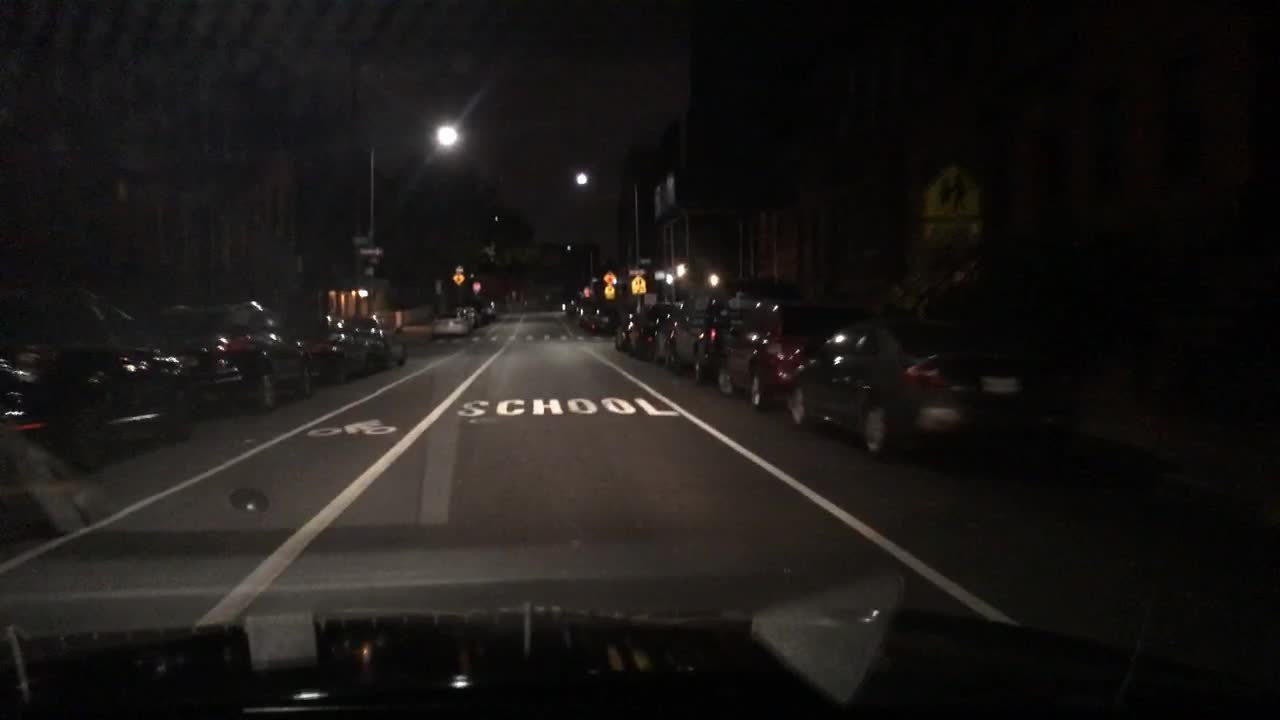car: (778, 308, 1091, 471), (0, 264, 200, 476), (710, 295, 884, 416), (156, 297, 319, 418), (662, 287, 785, 388), (288, 308, 380, 390), (648, 298, 712, 370), (347, 309, 413, 370), (611, 304, 664, 359), (424, 311, 471, 341), (583, 304, 625, 337), (453, 304, 486, 331), (574, 297, 602, 326), (475, 297, 503, 326), (556, 293, 578, 315)
traffic sign: (919, 162, 987, 221), (923, 217, 987, 246), (629, 272, 649, 300), (356, 245, 387, 261), (449, 262, 468, 287), (600, 268, 622, 287), (600, 283, 622, 300), (350, 235, 372, 250), (361, 261, 376, 279), (625, 268, 648, 278), (636, 257, 655, 268), (471, 278, 482, 294)
